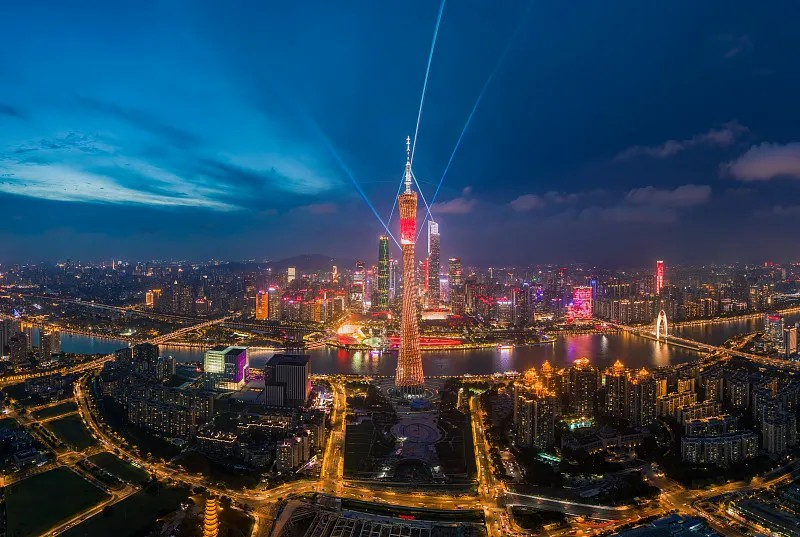Canton: (394, 136, 426, 399)
